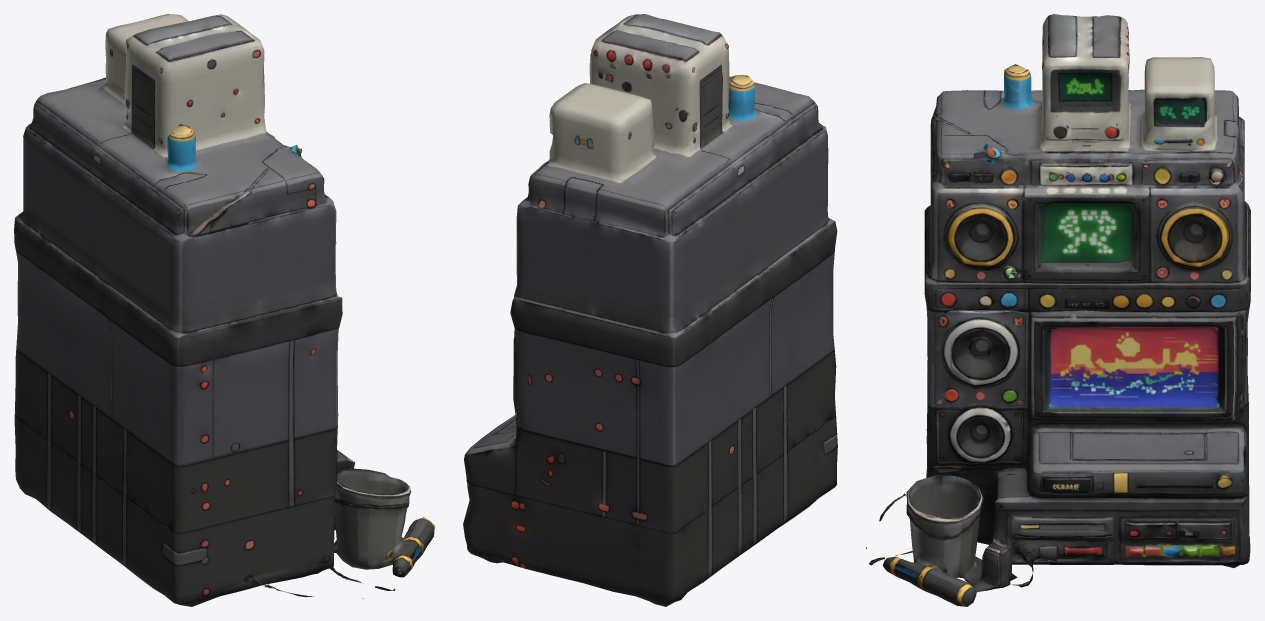
File: Arcade 1.fbx
3 views of the same model, side by side, from view 1: azimuth 30°, elevation 25°; view 2: azimuth 150°, elevation 25°; view 3: azimuth 270°, elevation 25° (orthographic). The views are drawn at different scales.
Visible parts, largest first — view 1: tripo_node_8b05ae80; view 2: tripo_node_8b05ae80; view 3: tripo_node_8b05ae80.
Part boxes in pixels (box(x1,y1,x2,y2)): tripo_node_8b05ae80: box(14, 14, 434, 606); tripo_node_8b05ae80: box(463, 14, 837, 606); tripo_node_8b05ae80: box(866, 14, 1250, 606).
Size of the model in its own units: 0.5748 by 0.9975 by 0.7039.
Materials: 1 (1 with a texture image).
